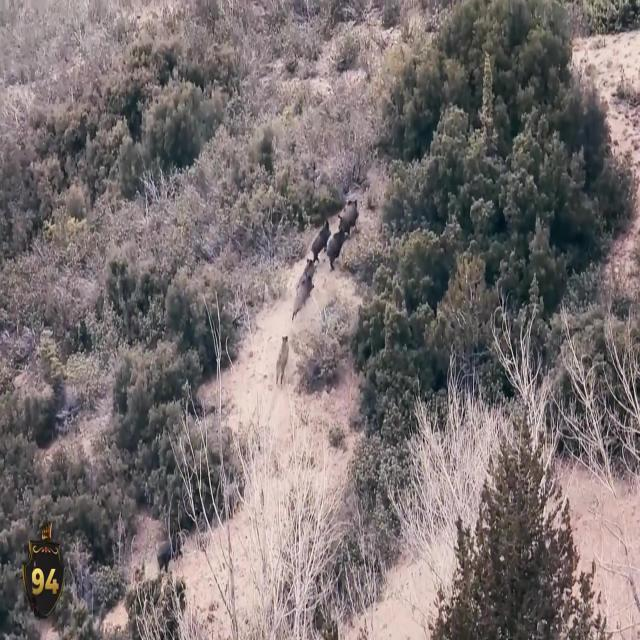pig: (272, 327, 296, 388), (320, 220, 348, 260), (298, 260, 320, 304), (338, 181, 360, 217), (314, 212, 326, 272)
